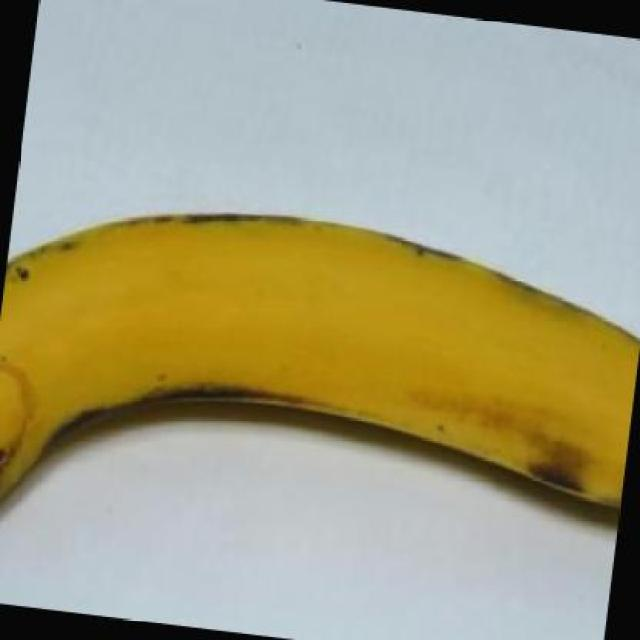ripe: (0, 199, 640, 566)
